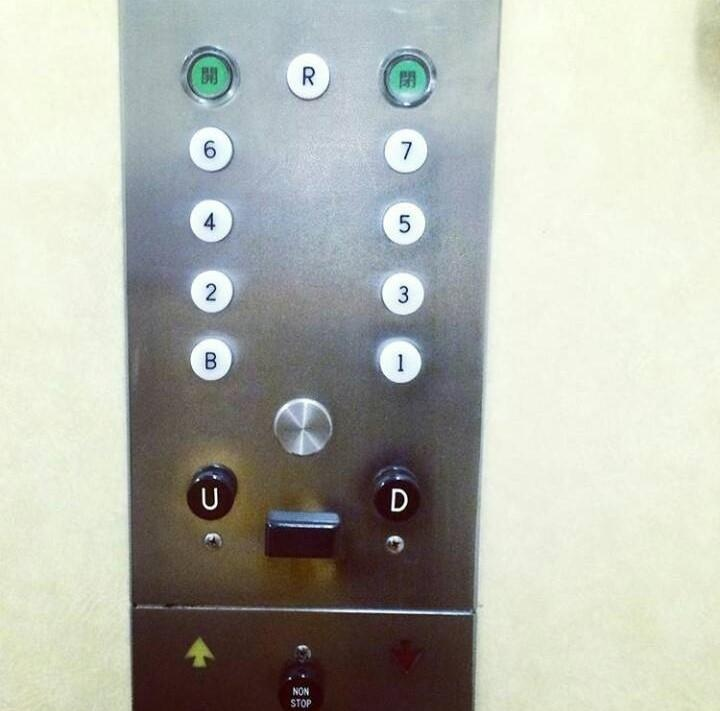1: (379, 339, 421, 383)
2: (191, 271, 232, 312)
3: (382, 272, 424, 314)
4: (189, 199, 232, 242)
5: (380, 201, 427, 243)
6: (189, 126, 234, 172)
7: (384, 129, 427, 172)
B: (191, 340, 231, 379)
D: (370, 469, 420, 523)
R: (283, 52, 331, 102)
U: (186, 469, 236, 520)
down: (386, 636, 424, 674)
empty: (265, 510, 342, 560), (272, 398, 334, 457)
text: (377, 48, 436, 109), (183, 46, 239, 105), (277, 666, 329, 711)
up: (180, 634, 217, 671)
